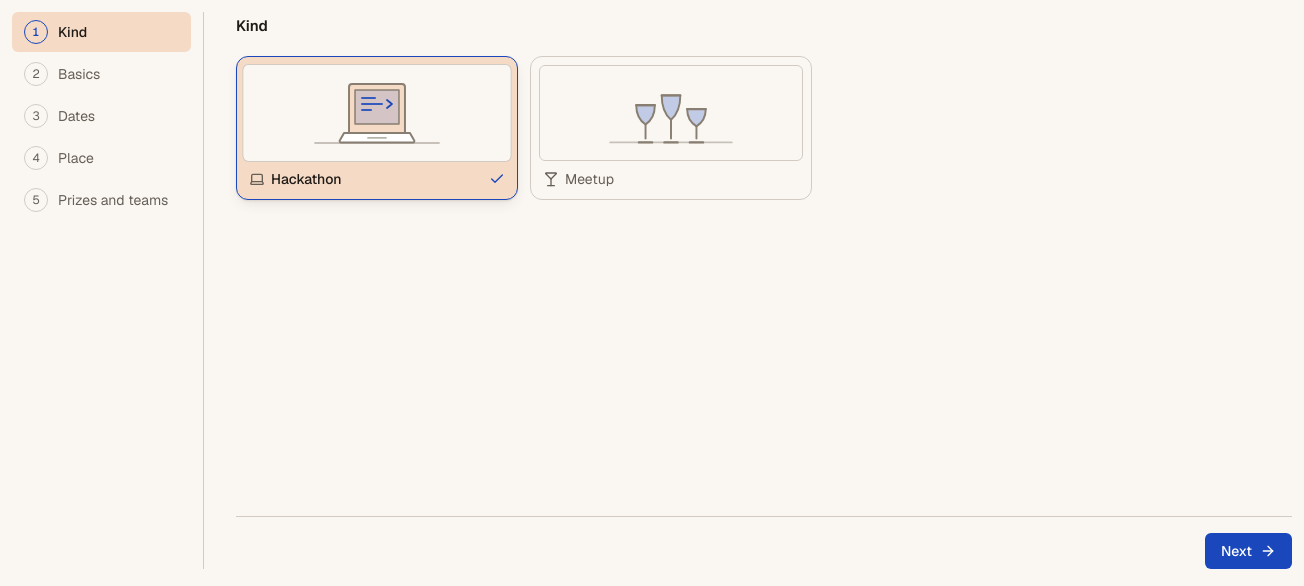
Test: the stages are a pipeline, not one sheet › shows one stage at a time, never two
Click the button "2 Basics" at (102, 74), box top-left (12, 54), bottom-right (191, 94)
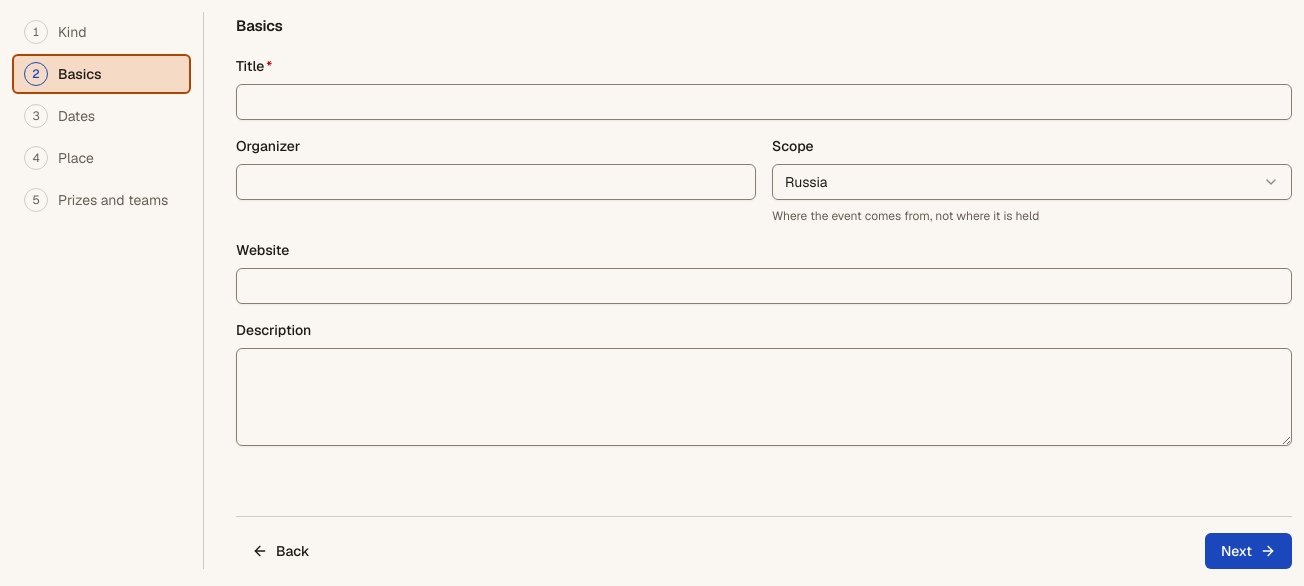
Now the field with id "event-title" is shown, box top-left (236, 84), bottom-right (1292, 120)
Now the element with test id "kind" is gone
